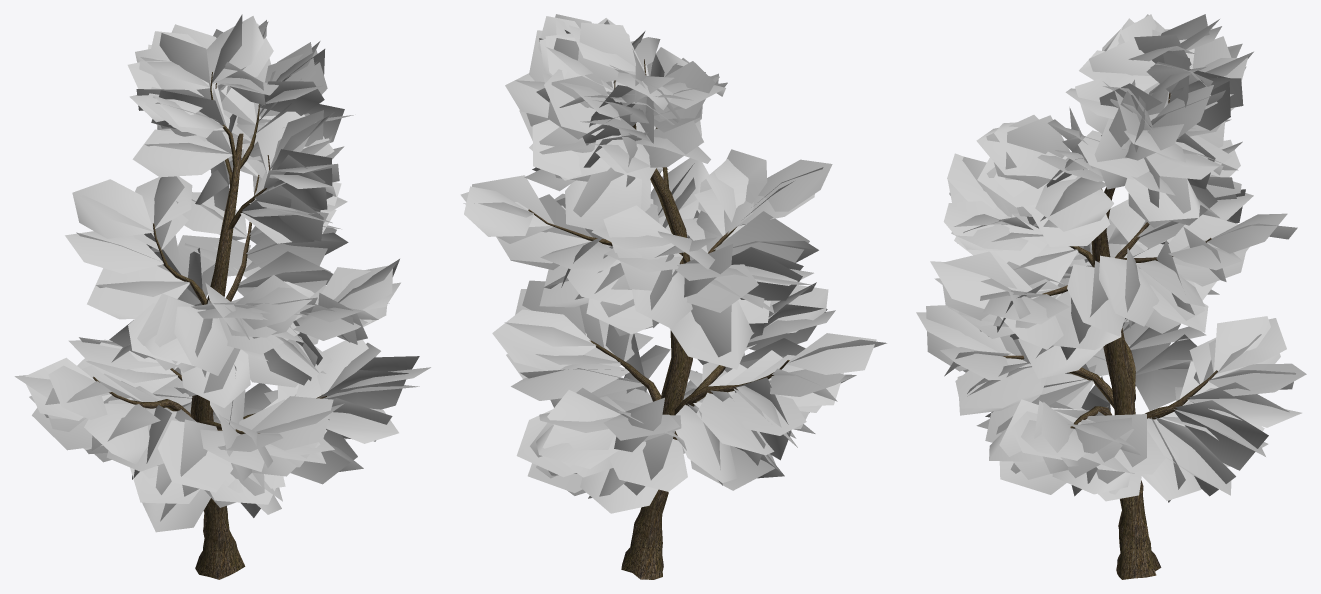
File: SM_Tree03.FBX
3 views of the same model, side by side, from view 1: azimuth 30°, elevation 25°; view 2: azimuth 150°, elevation 25°; view 3: azimuth 270°, elevation 25° (orthographic). The views are drawn at different scales.
Visible parts, largest first — view 1: SM_Tree03; view 2: SM_Tree03; view 3: SM_Tree03.
Boxes of the visible parts, <box> form: SM_Tree03: <box>14,14,430,579</box>; SM_Tree03: <box>460,14,886,579</box>; SM_Tree03: <box>916,14,1306,579</box>.
Size of the model in its own units: 1198 by 1064 by 1686.
